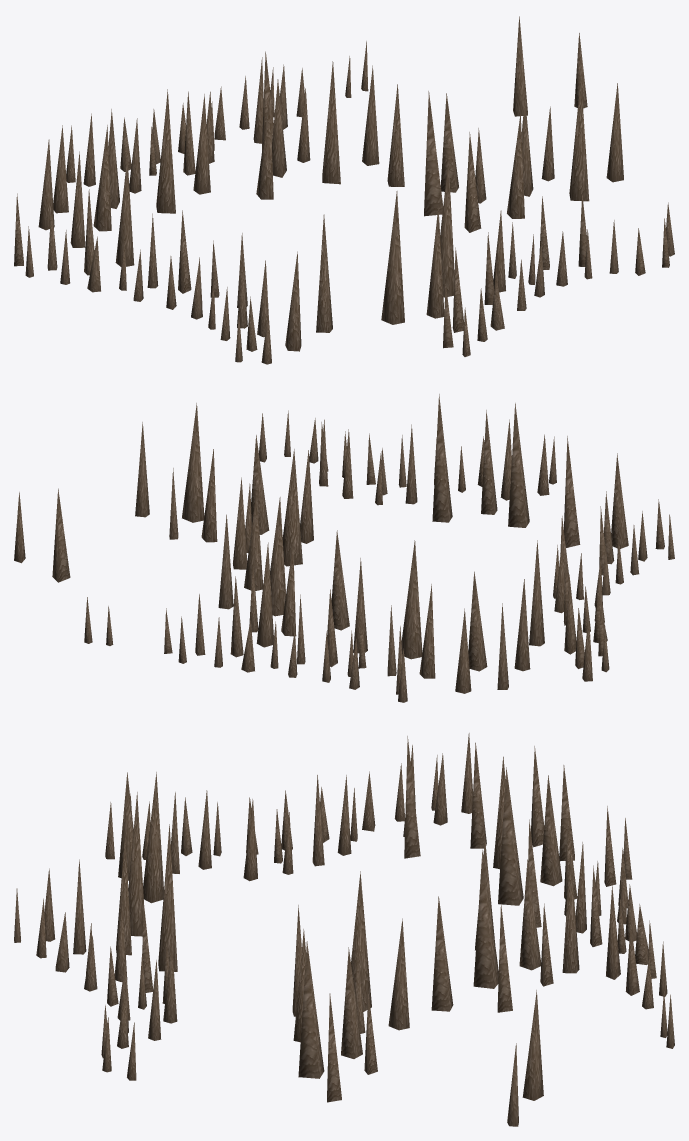
File: area_03_30.fbx
3 renders of one model, top to bottom at view 1: azimuth 30°, elevation 25°; view 2: azimuth 150°, elevation 25°; view 3: azimuth 270°, elevation 25°, orthographic. The views are drawn at different scales.
Parts seen in each view (by area): view 1: area_03_30; view 2: area_03_30; view 3: area_03_30.
Boxes of the visible parts, left/top/right/bottom form: area_03_30: left=14, top=16, right=674, bottom=364; area_03_30: left=14, top=394, right=674, bottom=702; area_03_30: left=14, top=733, right=674, bottom=1126.
Bounding box in the file's own units: 77.77 × 16.85 × 68.17.
